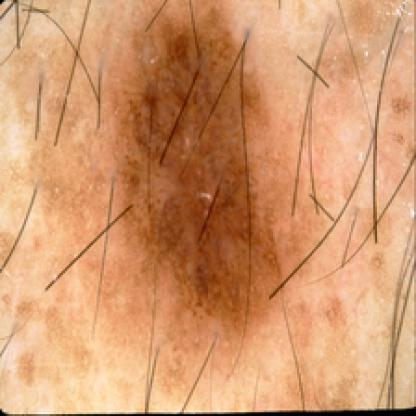malignant: (117, 7, 292, 314)
